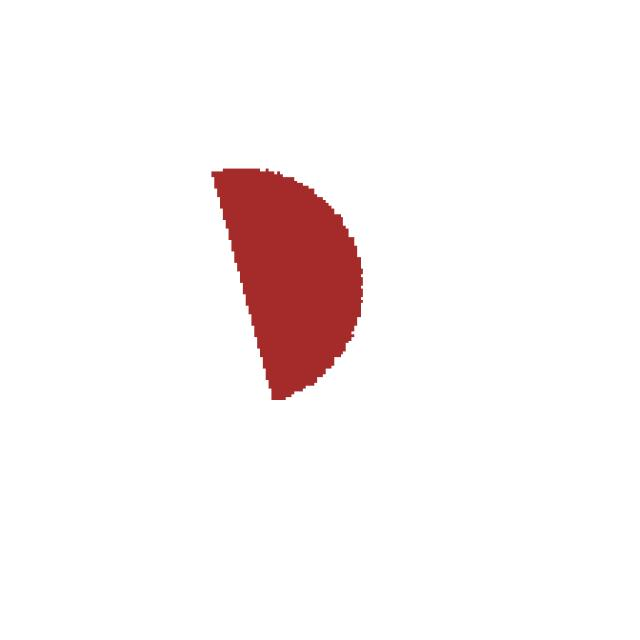Semicircle: (154, 109, 414, 430)
